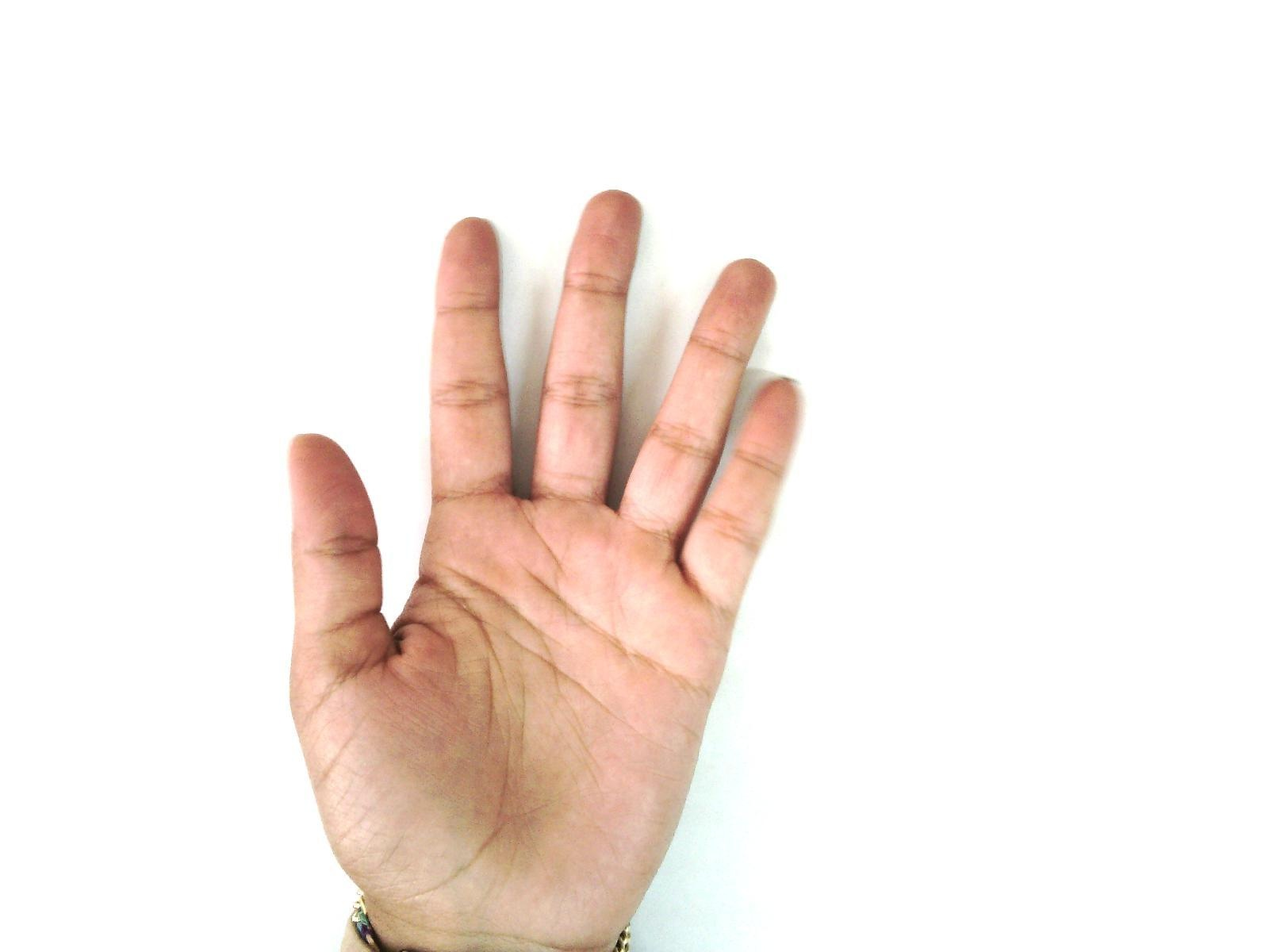open_palm: (283, 188, 807, 950)
